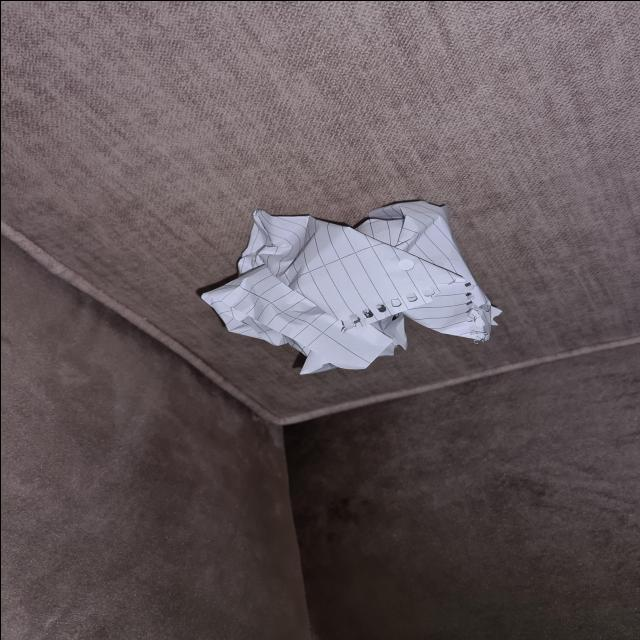kertas: (198, 202, 490, 376)
